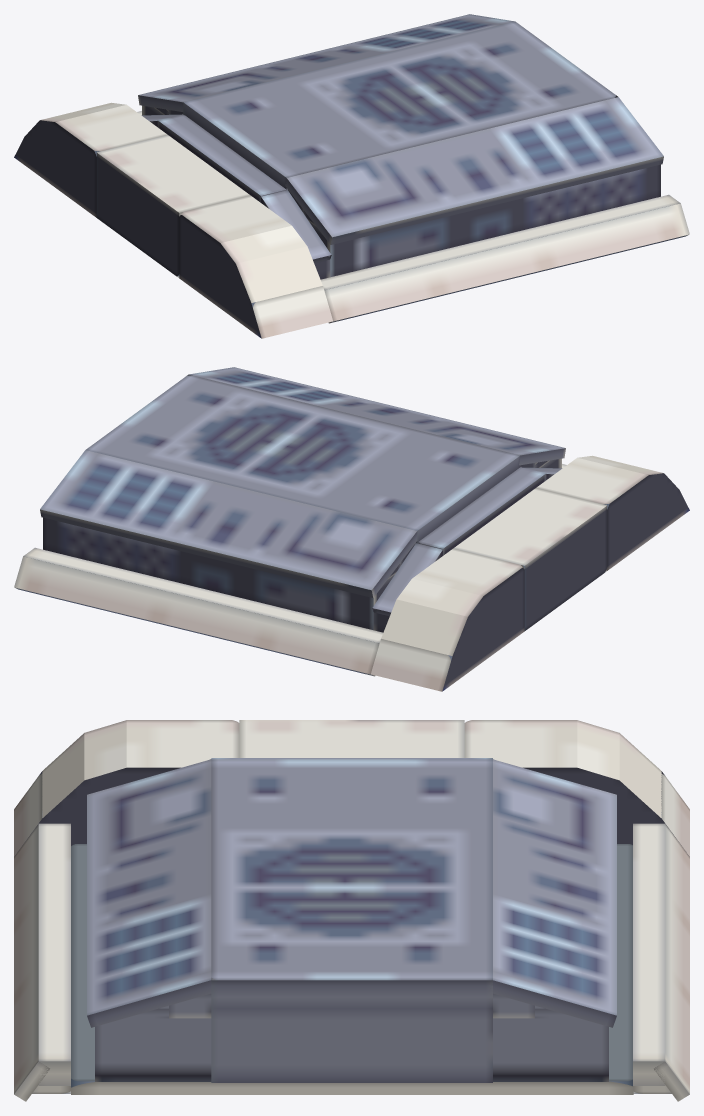
File: meter_carriage_air_condition_1.obj
3 views of the same model, one above another, from view 1: azimuth 30°, elevation 25°; view 2: azimuth 150°, elevation 25°; view 3: azimuth 270°, elevation 25° (orthographic). The views are drawn at different scales.
Visible parts, largest first — view 1: cube, cuboid_selection; view 2: cube, cuboid_selection; view 3: cube, cuboid_selection.
Boxes of the visible parts, x1,y1,x2,y2 form: cube: [96, 14, 689, 323]; cuboid_selection: [14, 102, 332, 338]; cube: [14, 367, 607, 676]; cuboid_selection: [371, 455, 689, 691]; cube: [14, 720, 689, 1101]; cuboid_selection: [14, 720, 689, 856].
Size of the model in its own units: 3 by 0.5987 by 3.
